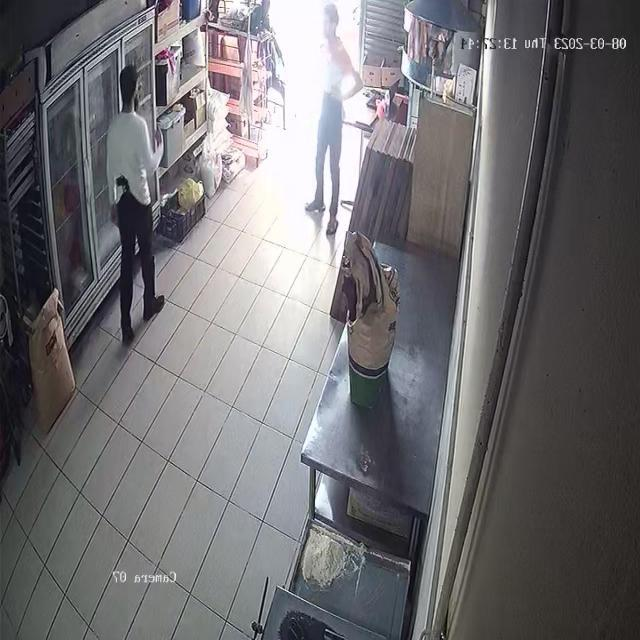Gun: (116, 166, 144, 208)
